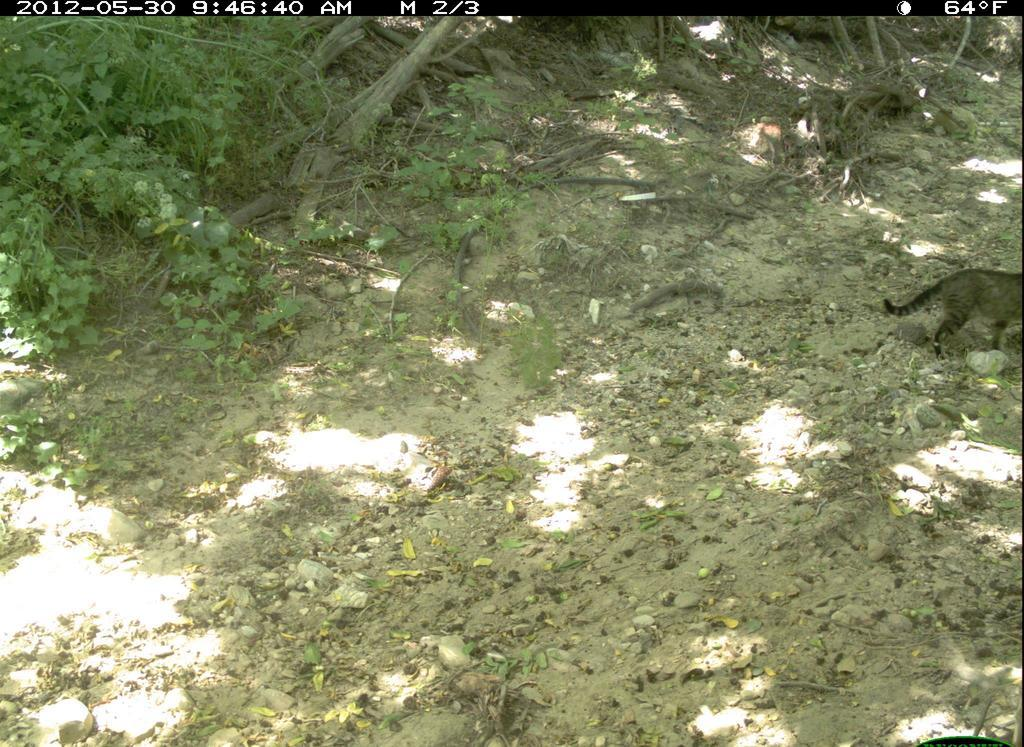cat: (876, 241, 1024, 369)
